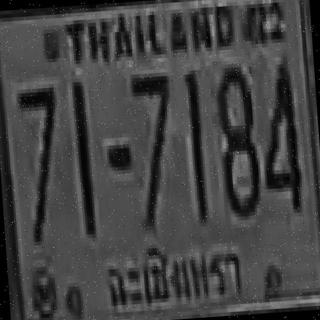N01: (71, 78, 94, 235), (184, 68, 207, 221)
N04: (256, 60, 302, 211)
N07: (130, 68, 177, 227), (16, 84, 63, 242)
N08: (213, 63, 260, 214)
P07: (102, 240, 254, 315)
